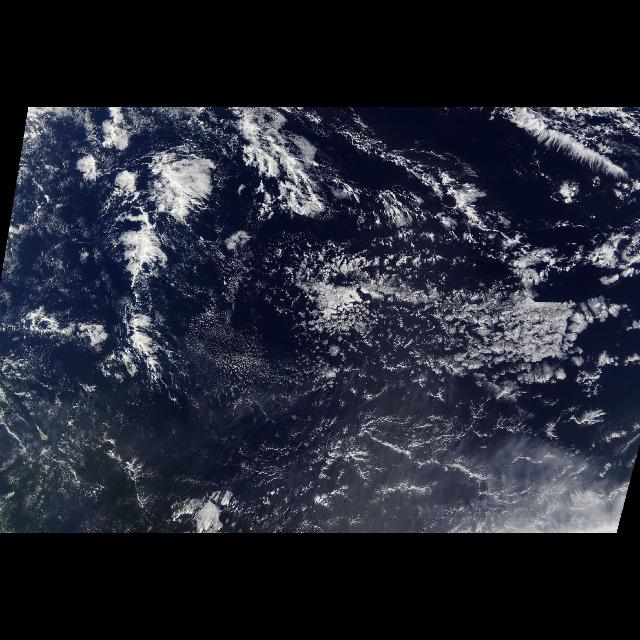Fish: (62, 121, 336, 427)
Gravel: (280, 231, 632, 417), (264, 434, 612, 534)
Sugar: (162, 235, 454, 420), (232, 424, 614, 528)
